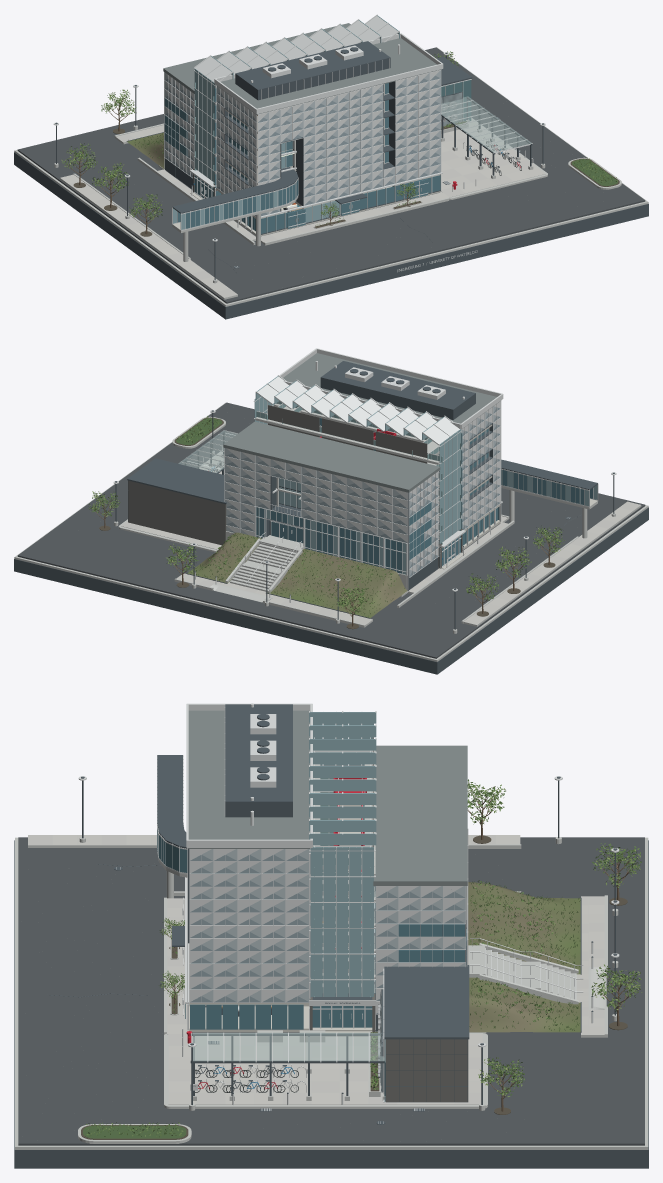
File: engineering-7.glb
3 renders of one model, top to bottom at view 1: azimuth 30°, elevation 25°; view 2: azimuth 150°, elevation 25°; view 3: azimuth 270°, elevation 25°, orthographic. The views are drawn at different scales.
Parts seen in each view (by area): view 1: road__Asphalt, shell__Silver anodized aluminum, site__Graphite metal, site__Limestone concrete, shell__Porcelain frit shadow, shell__Porcelain frit mid, shell__Porcelain frit light, atriumroof__Silver anodized aluminum, roof__Graphite metal, site__Limestone paving 0, roof__Silver anodized aluminum, site__Limestone paving 1 (+30 smaller); view 2: road__Asphalt, site__Graphite metal, site__Limestone concrete, context__Silver anodized aluminum, terrain__Graded planted earth, context__Roof membrane, atriumroof__Silver anodized aluminum, annex__Charcoal facade panels, roof__Graphite metal, context__Blue gray architectural glass, context__Porcelain frit shadow, context__Porcelain frit mid (+33 smaller); view 3: road__Asphalt, site__Limestone concrete, site__Graphite metal, context__Roof membrane, terrain__Graded planted earth, atriumshell__Sky reflection, roof__Roof membrane, shell__Silver anodized aluminum, atriumroof__Sky reflection, site__Limestone paving 1, annex__Graphite metal, site__Limestone paving 0 (+29 smaller).
Boxes of the visible parts, x1=… form: road__Asphalt: x1=17, y1=47, x2=645, y2=303; shell__Silver anodized aluminum: x1=216, y1=70, x2=442, y2=233; site__Graphite metal: x1=14, y1=52, x2=648, y2=319; site__Limestone concrete: x1=14, y1=47, x2=648, y2=306; shell__Porcelain frit shadow: x1=217, y1=75, x2=440, y2=216; shell__Porcelain frit mid: x1=217, y1=70, x2=440, y2=214; shell__Porcelain frit light: x1=217, y1=70, x2=439, y2=200; atriumroof__Silver anodized aluminum: x1=194, y1=14, x2=399, y2=82; roof__Graphite metal: x1=235, y1=41, x2=390, y2=100; site__Limestone paving 0: x1=68, y1=119, x2=535, y2=297; roof__Silver anodized aluminum: x1=214, y1=33, x2=443, y2=114; site__Limestone paving 1: x1=60, y1=129, x2=529, y2=291; road__Asphalt: x1=17, y1=402, x2=645, y2=658; site__Graphite metal: x1=14, y1=410, x2=648, y2=674; site__Limestone concrete: x1=14, y1=402, x2=648, y2=661; context__Silver anodized aluminum: x1=224, y1=448, x2=439, y2=589; terrain__Graded planted earth: x1=187, y1=532, x2=407, y2=617; context__Roof membrane: x1=223, y1=421, x2=440, y2=492; atriumroof__Silver anodized aluminum: x1=255, y1=375, x2=459, y2=445; annex__Charcoal facade panels: x1=128, y1=480, x2=226, y2=545; roof__Graphite metal: x1=320, y1=361, x2=475, y2=419; context__Blue gray architectural glass: x1=256, y1=502, x2=431, y2=573; context__Porcelain frit shadow: x1=225, y1=453, x2=438, y2=577; context__Porcelain frit mid: x1=225, y1=448, x2=434, y2=576; road__Asphalt: x1=18, y1=837, x2=644, y2=1145; site__Limestone concrete: x1=15, y1=835, x2=648, y2=1149; site__Graphite metal: x1=14, y1=776, x2=648, y2=1168; context__Roof membrane: x1=373, y1=745, x2=467, y2=885; terrain__Graded planted earth: x1=468, y1=882, x2=580, y2=1032; atriumshell__Sky reflection: x1=311, y1=723, x2=373, y2=996; roof__Roof membrane: x1=188, y1=710, x2=310, y2=848; shell__Silver anodized aluminum: x1=182, y1=848, x2=309, y2=1030; atriumroof__Sky reflection: x1=309, y1=712, x2=376, y2=845; site__Limestone paving 1: x1=53, y1=835, x2=604, y2=1104; annex__Graphite metal: x1=384, y1=965, x2=469, y2=1102; site__Limestone paving 0: x1=28, y1=835, x2=604, y2=1104.
Bounding box in the file's own units: 27.11 × 9.57 × 23.21.
